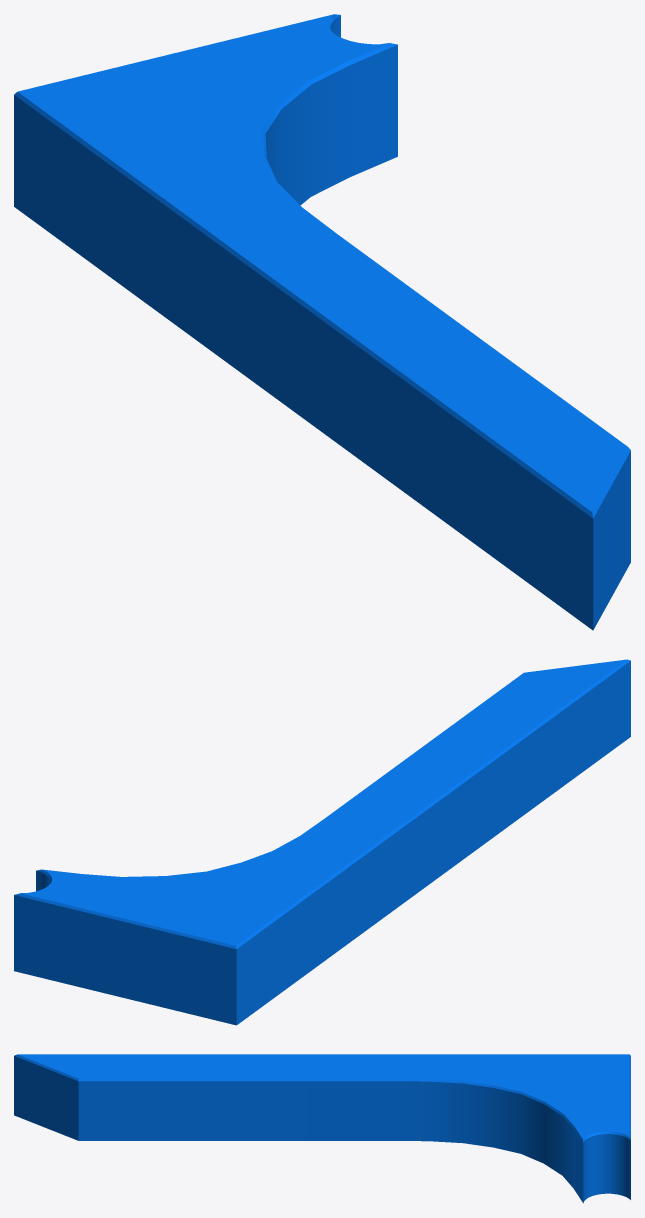
Rendered from SM_ObsWallRight.fbx.
The picture shows the model from 3 angles, top to bottom: view 1: azimuth 30°, elevation 25°; view 2: azimuth 150°, elevation 25°; view 3: azimuth 270°, elevation 25°; orthographic projection. The views are drawn at different scales.
Parts seen in each view (by area): view 1: Object007; view 2: Object007; view 3: Object007.
Boxes of the visible parts, bbox=[...] form: Object007: bbox=[14, 14, 630, 630]; Object007: bbox=[14, 659, 630, 1025]; Object007: bbox=[14, 1054, 630, 1203].
Size of the model in its own units: 8.12 by 2.64 by 24.01.
